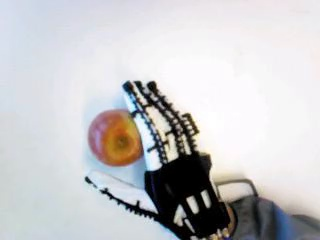apple: (87, 107, 146, 167)
hand: (82, 79, 235, 240)
